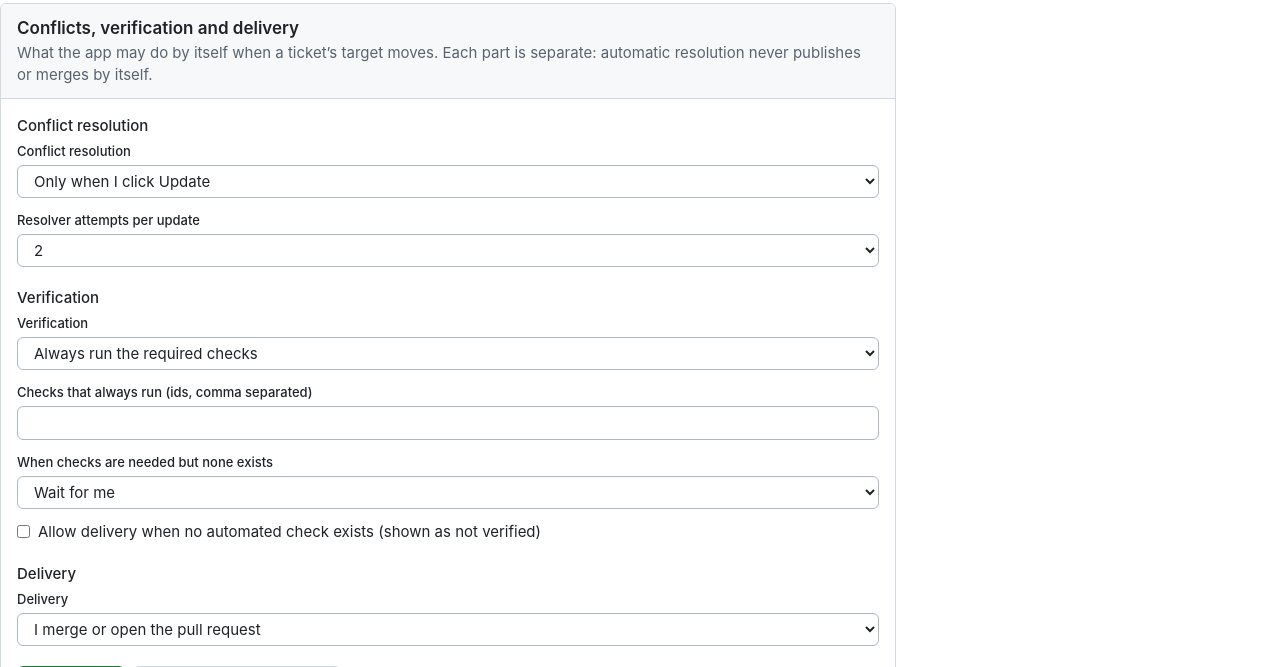
Test case: Conflicts, verification and delivery policy (ADR-0030) › refuses an unsafe pattern before saving
The image size is (1280, 667).
(page scrolled)
Select "Adaptive: agents may select checks; approved documentation may skip them" in the dropdown with test id "automation-verification-mode". click: (448, 354)
box: [17,337,879,370]
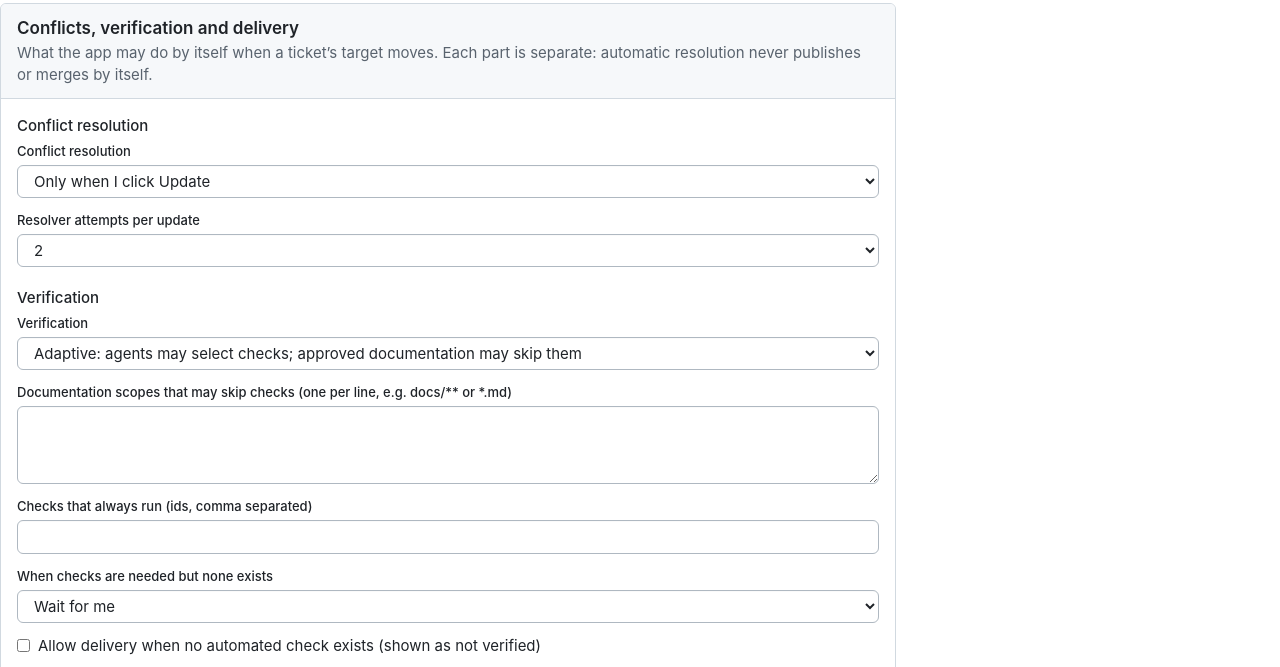
Type "../secrets/**" into the text box with test id "automation-skip-scopes". click: (448, 445)
box: [17,406,879,484]
(page scrolled)
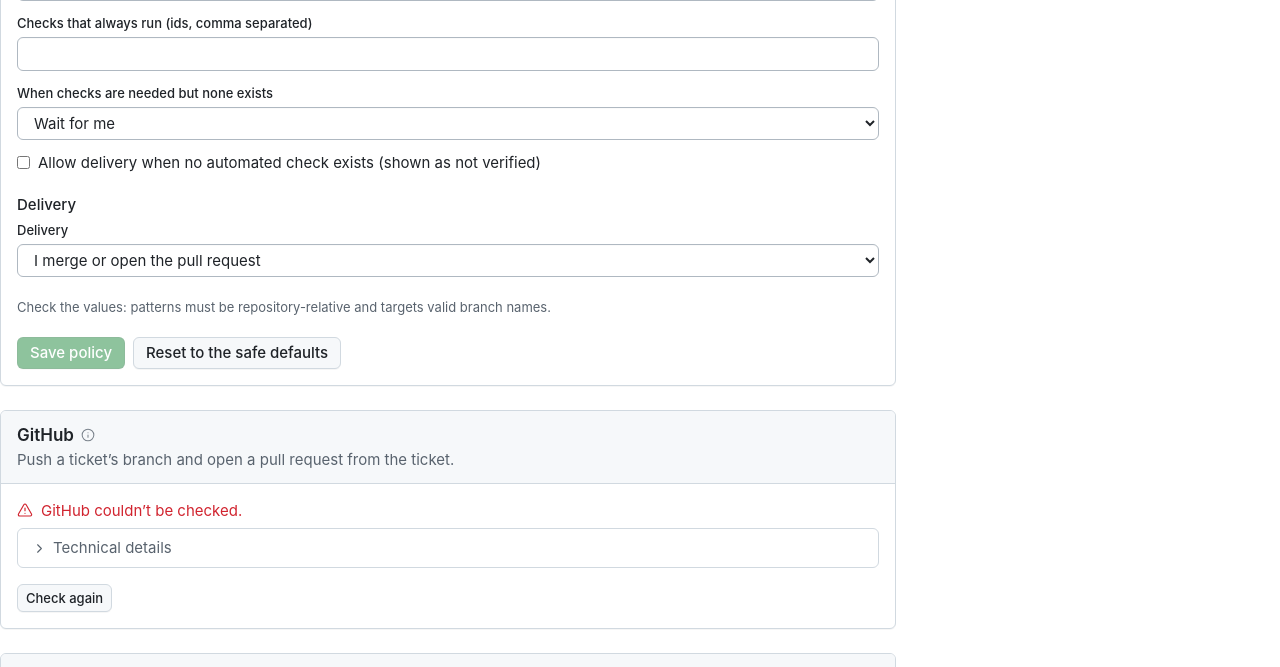
Result: the message with test id "automation-invalid" is shown at [17,299,551,315]
Result: the button with test id "automation-save" is disabled at [17,337,125,369]
